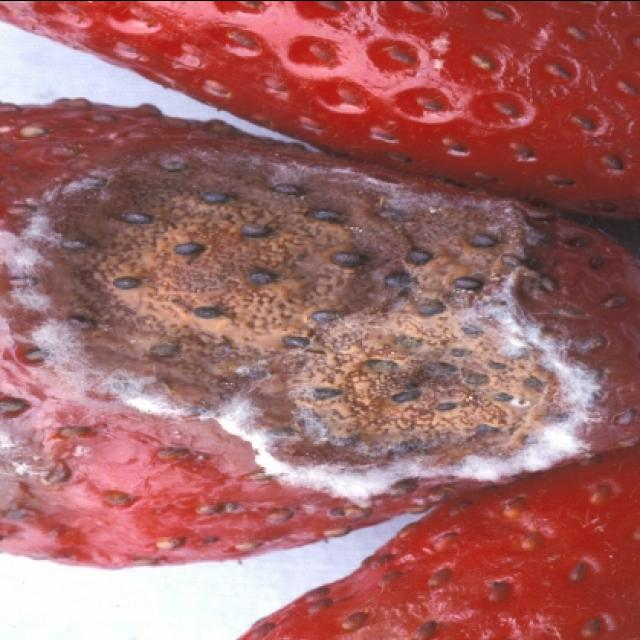Anthracnose Fruit Rot: (0, 111, 638, 530)
